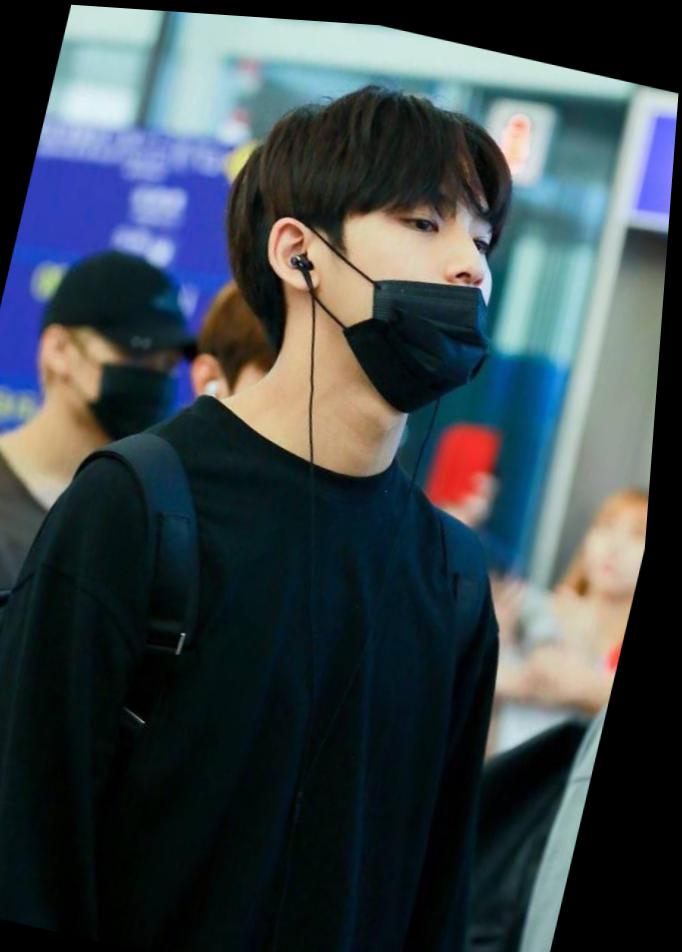NONE: (582, 497, 655, 594)
OK: (76, 312, 197, 451)
WRONG: (315, 140, 532, 411)
